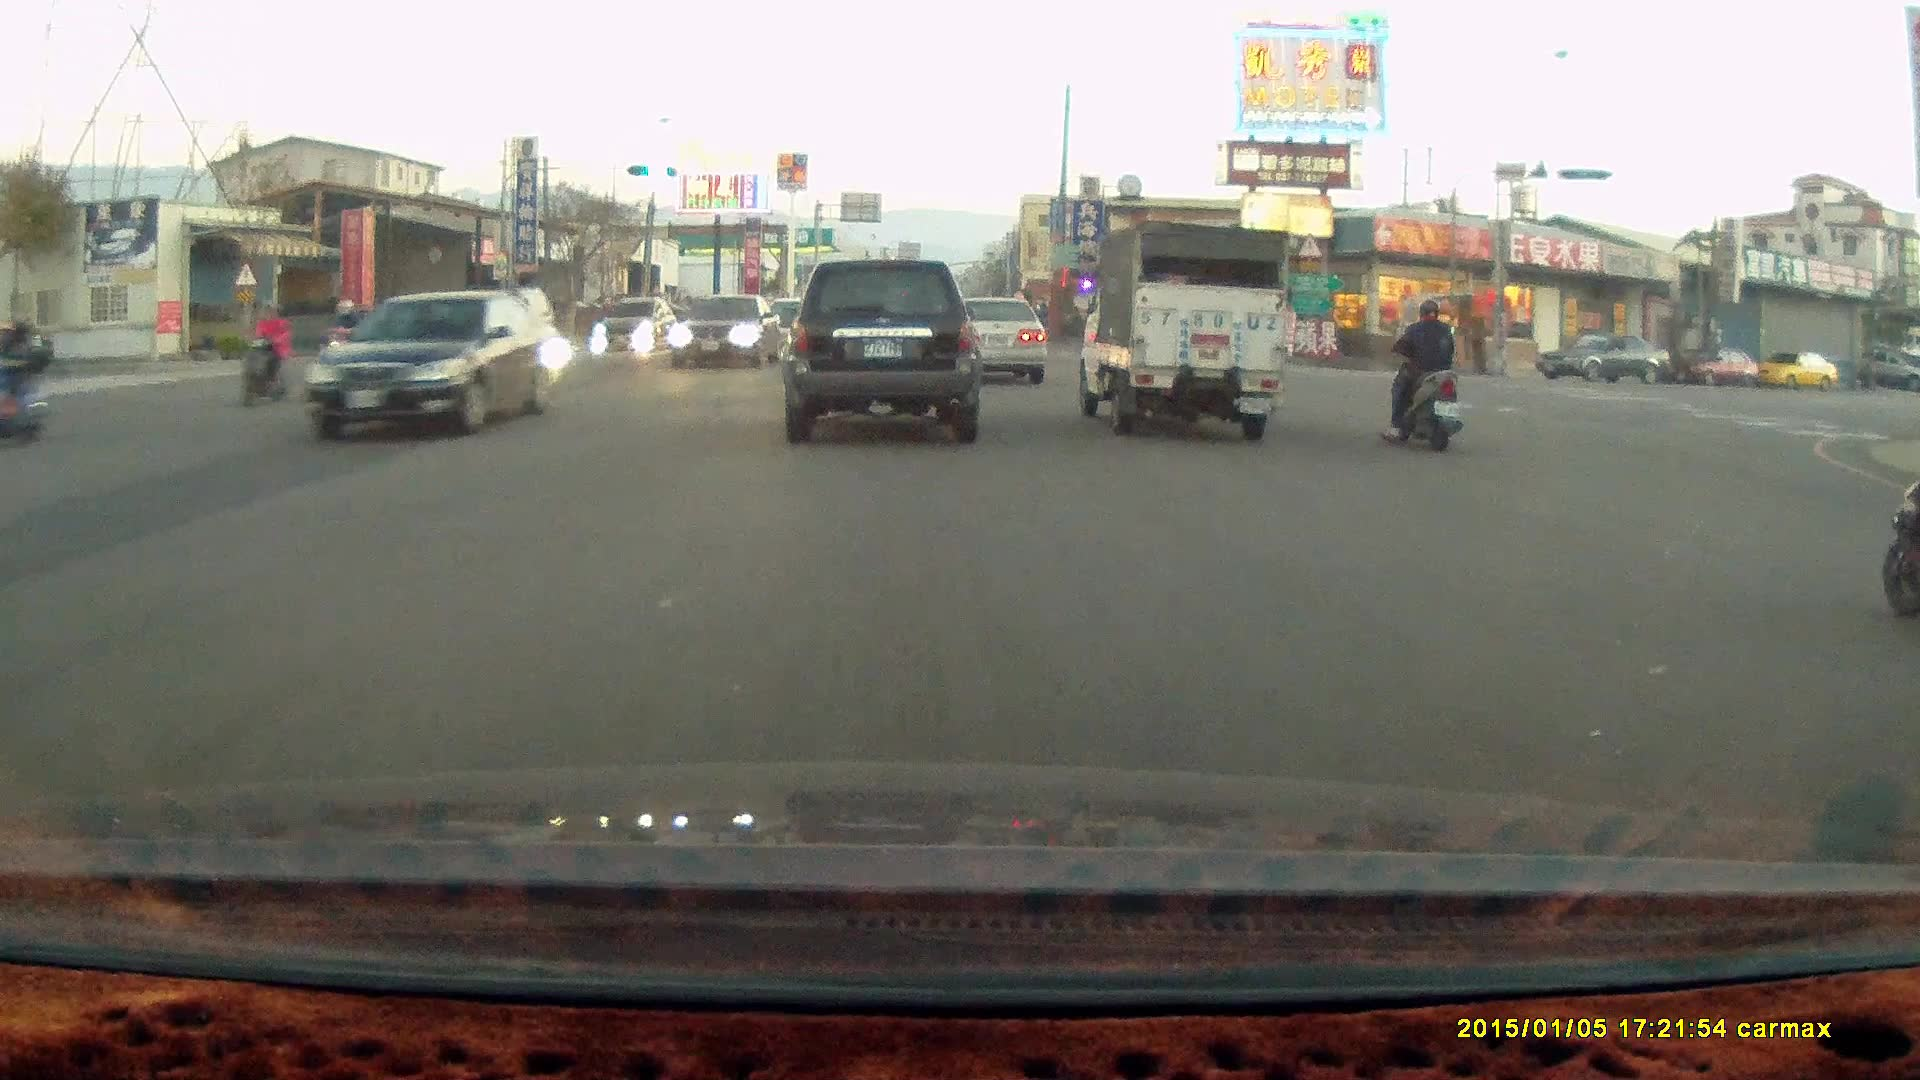rider: (1382, 296, 1463, 454), (0, 318, 53, 448), (1875, 465, 1920, 616), (237, 301, 297, 401), (319, 299, 371, 389)
vehicle: (1068, 218, 1291, 440), (298, 285, 565, 447), (779, 256, 981, 445), (934, 292, 1049, 386), (949, 297, 1050, 387), (670, 294, 785, 372), (1535, 331, 1676, 386), (371, 295, 476, 341), (597, 295, 673, 352), (1673, 347, 1763, 388), (1752, 353, 1842, 393)
